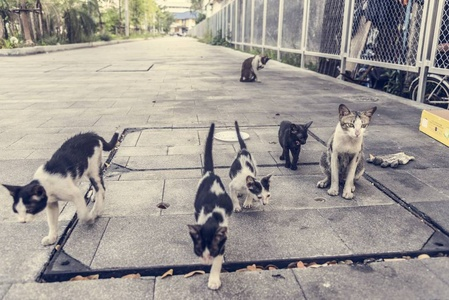cat: (1, 130, 120, 247), (186, 123, 234, 291), (317, 104, 377, 201), (227, 121, 275, 213), (277, 120, 313, 170), (240, 54, 271, 82)
